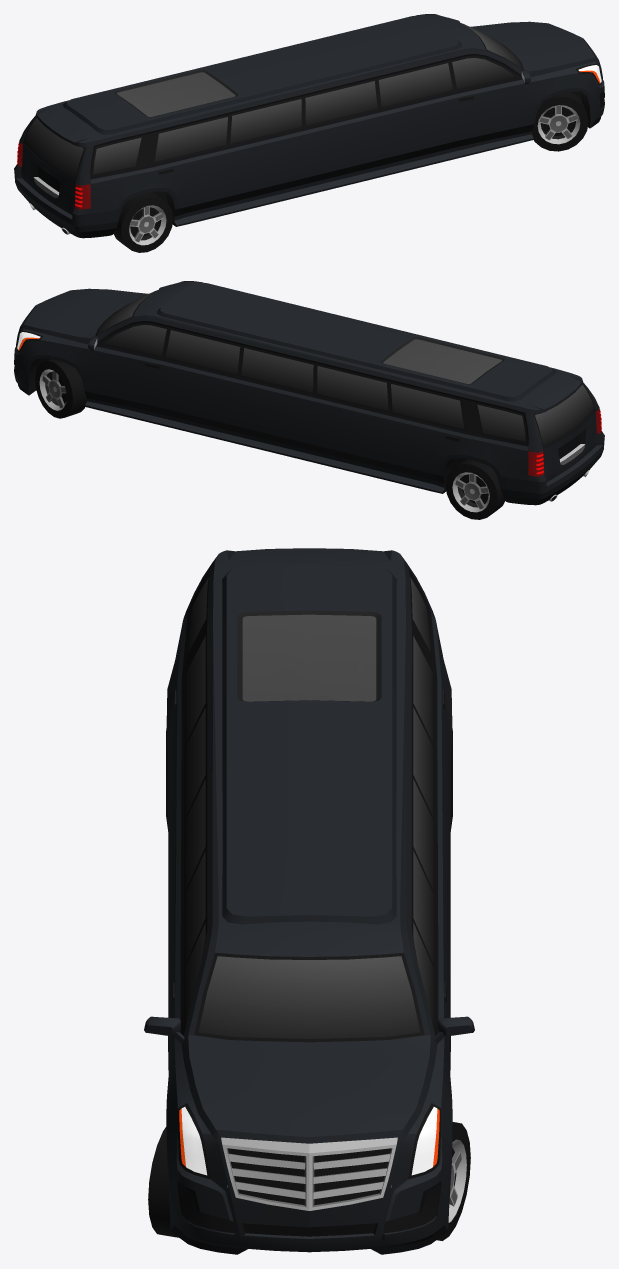
The model's file is Car_012.glb.
3 views of the same model, one above another, from view 1: azimuth 30°, elevation 25°; view 2: azimuth 150°, elevation 25°; view 3: azimuth 270°, elevation 25° (orthographic). The views are drawn at different scales.
Parts seen in each view (by area): view 1: Car_012, wheel_3_Car_012_Wheel_2R, wheel_1_Car_012_Wheel_1R; view 2: Car_012, wheel_2_Car_012_Wheel_2L, wheel_0_Car_012_Wheel_1L; view 3: Car_012, wheel_0_Car_012_Wheel_1L, wheel_1_Car_012_Wheel_1R.
Part boxes in pixels (left/top/right/bottom): Car_012: left=14, top=14, right=604, bottom=238; wheel_3_Car_012_Wheel_2R: left=113, top=192, right=173, bottom=252; wheel_1_Car_012_Wheel_1R: left=532, top=91, right=588, bottom=151; Car_012: left=14, top=281, right=604, bottom=505; wheel_2_Car_012_Wheel_2L: left=445, top=459, right=505, bottom=519; wheel_0_Car_012_Wheel_1L: left=35, top=359, right=86, bottom=418; Car_012: left=144, top=548, right=474, bottom=1254; wheel_0_Car_012_Wheel_1L: left=436, top=1122, right=470, bottom=1240; wheel_1_Car_012_Wheel_1R: left=148, top=1127, right=178, bottom=1237.
Bounding box in the file's own units: 9.05 × 1.86 × 2.36.
Materials: 2 (2 with a texture image).
